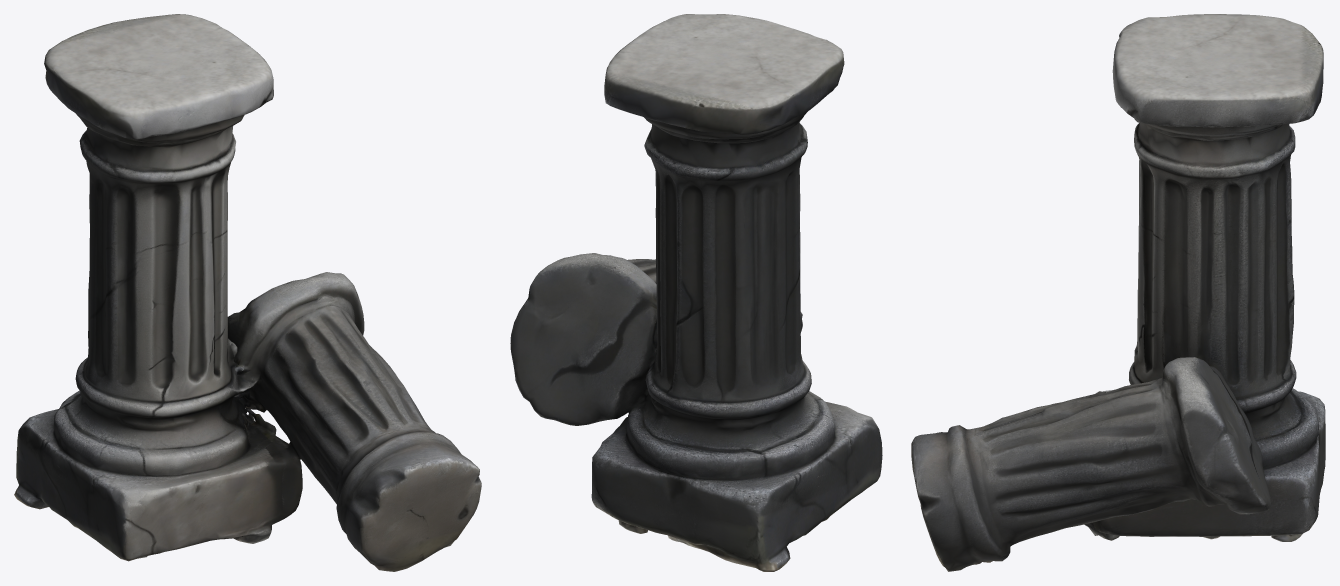
The model's file is broken_pillar.glb.
3 renders of one model, left to right at view 1: azimuth 30°, elevation 25°; view 2: azimuth 150°, elevation 25°; view 3: azimuth 270°, elevation 25°, orthographic. The views are drawn at different scales.
Bounding box in the file's own units: 1.39 × 2 × 1.64.
1 material, 1 textured.
